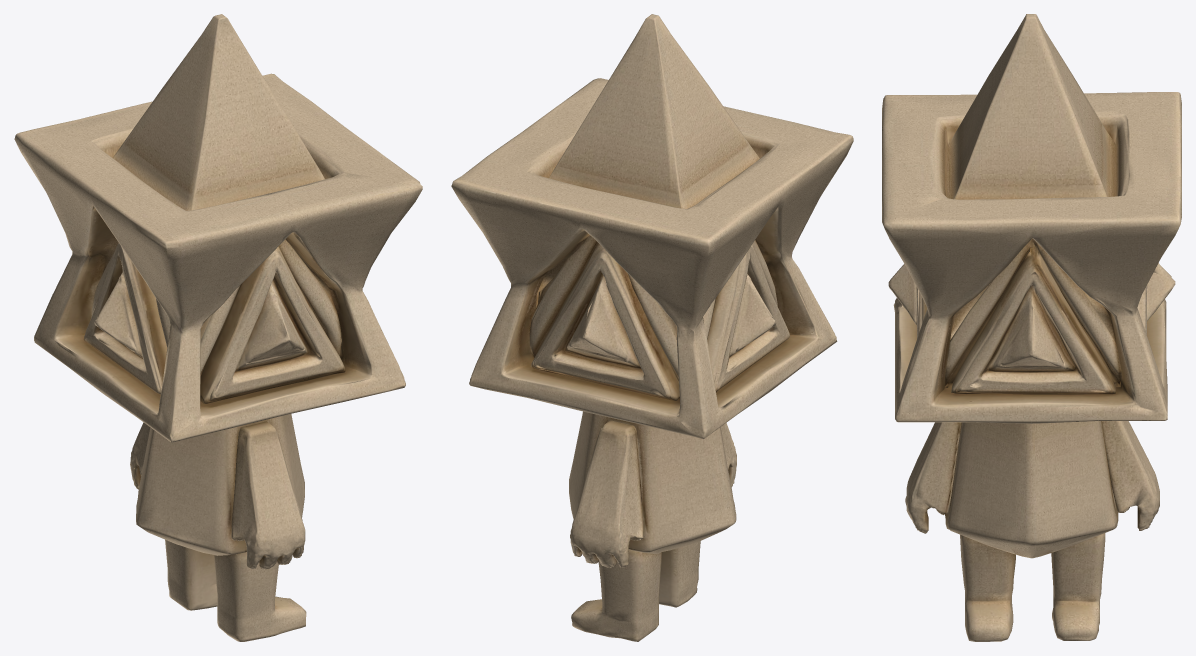
Rendered from polypal_juxtaposed.glb.
3 renders of one model, left to right at view 1: azimuth 30°, elevation 25°; view 2: azimuth 150°, elevation 25°; view 3: azimuth 270°, elevation 25°, orthographic.
Visible parts, largest first — view 1: tripo_node_1653ea2e-f9c1-416d-8d88-e27adadb83a0; view 2: tripo_node_1653ea2e-f9c1-416d-8d88-e27adadb83a0; view 3: tripo_node_1653ea2e-f9c1-416d-8d88-e27adadb83a0.
Boxes of the visible parts, bbox=[...] form: tripo_node_1653ea2e-f9c1-416d-8d88-e27adadb83a0: bbox=[14, 14, 422, 641]; tripo_node_1653ea2e-f9c1-416d-8d88-e27adadb83a0: bbox=[451, 14, 853, 641]; tripo_node_1653ea2e-f9c1-416d-8d88-e27adadb83a0: bbox=[882, 14, 1181, 641].
Size of the model in its own units: 0.4551 by 0.998 by 0.4512.
Materials: 1 (1 with a texture image).
